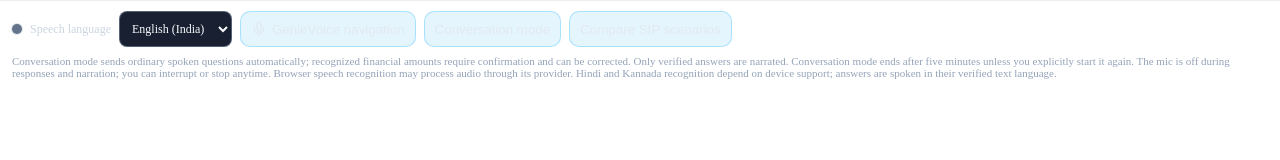
Scenario: GenieVoice opt-in navigation › navigates only canonical server-authorized pages
What coordinates should you click on to do the following:
click the button with aria-label "Start GenieVoice navigation"
I would click on:
 (328, 29)
Its box is x1=240 y1=11 x2=416 y2=47.
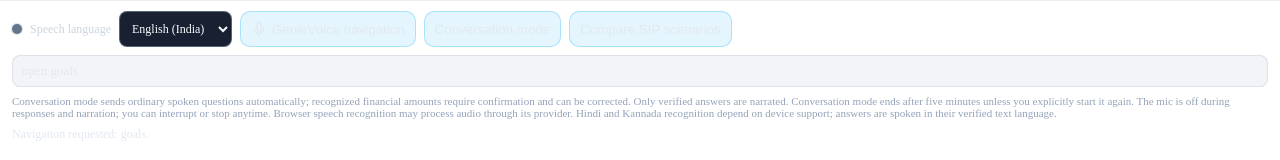
Now the text "Navigation requested: goals." is shown, box x1=12 y1=127 x2=149 y2=141
